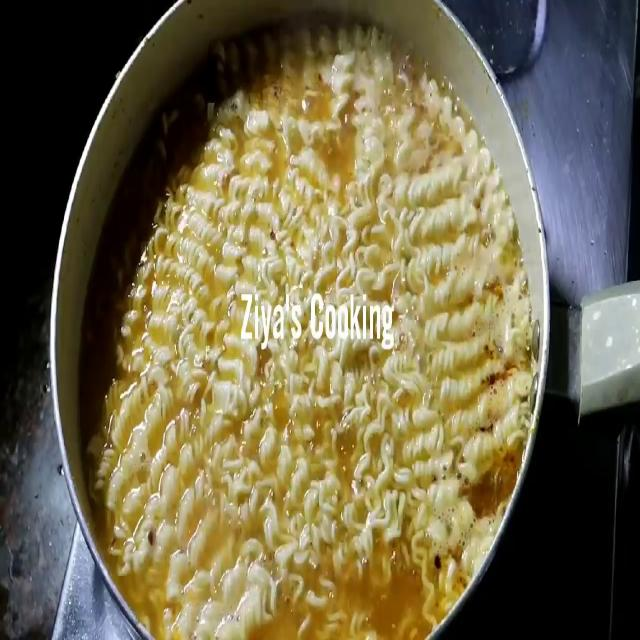Wet Waste: (128, 98, 499, 624)
